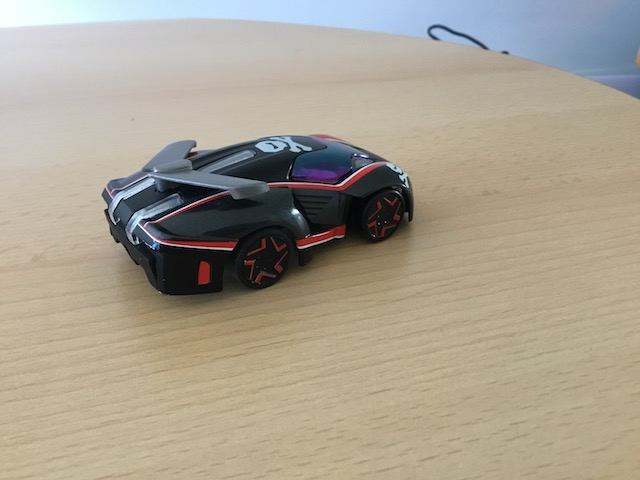car-red: (97, 129, 417, 301)
